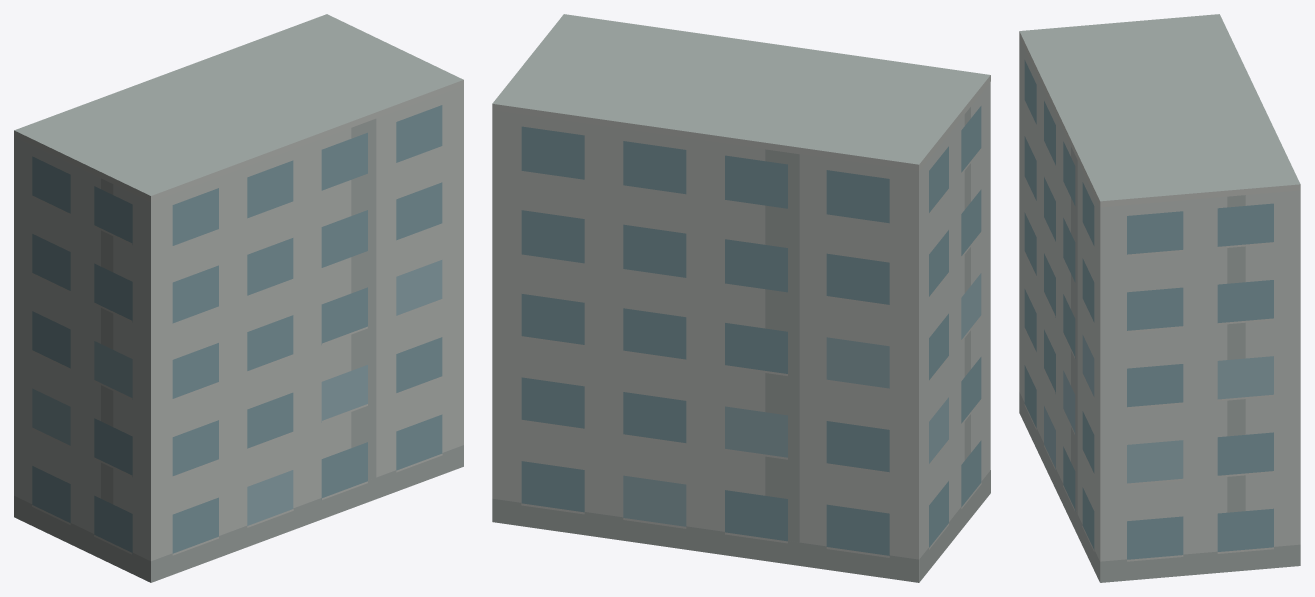
The model's file is residential-d3bdcdb3-ec95-4321-9861-6fa70e44f0fe.glb.
3 views of the same model, side by side, from view 1: azimuth 30°, elevation 25°; view 2: azimuth 150°, elevation 25°; view 3: azimuth 270°, elevation 25° (orthographic). The views are drawn at different scales.
Visible parts, largest first — view 1: residential-d3bdcdb3-ec95-4321-9861-6fa70e44f0fe.tmp; view 2: residential-d3bdcdb3-ec95-4321-9861-6fa70e44f0fe.tmp; view 3: residential-d3bdcdb3-ec95-4321-9861-6fa70e44f0fe.tmp.
Part boxes in pixels (bbox=[...]): residential-d3bdcdb3-ec95-4321-9861-6fa70e44f0fe.tmp: bbox=[14, 14, 463, 582]; residential-d3bdcdb3-ec95-4321-9861-6fa70e44f0fe.tmp: bbox=[492, 14, 990, 582]; residential-d3bdcdb3-ec95-4321-9861-6fa70e44f0fe.tmp: bbox=[1019, 14, 1300, 582].
Size of the model in its own units: 16.07 by 15.25 by 10.2.
